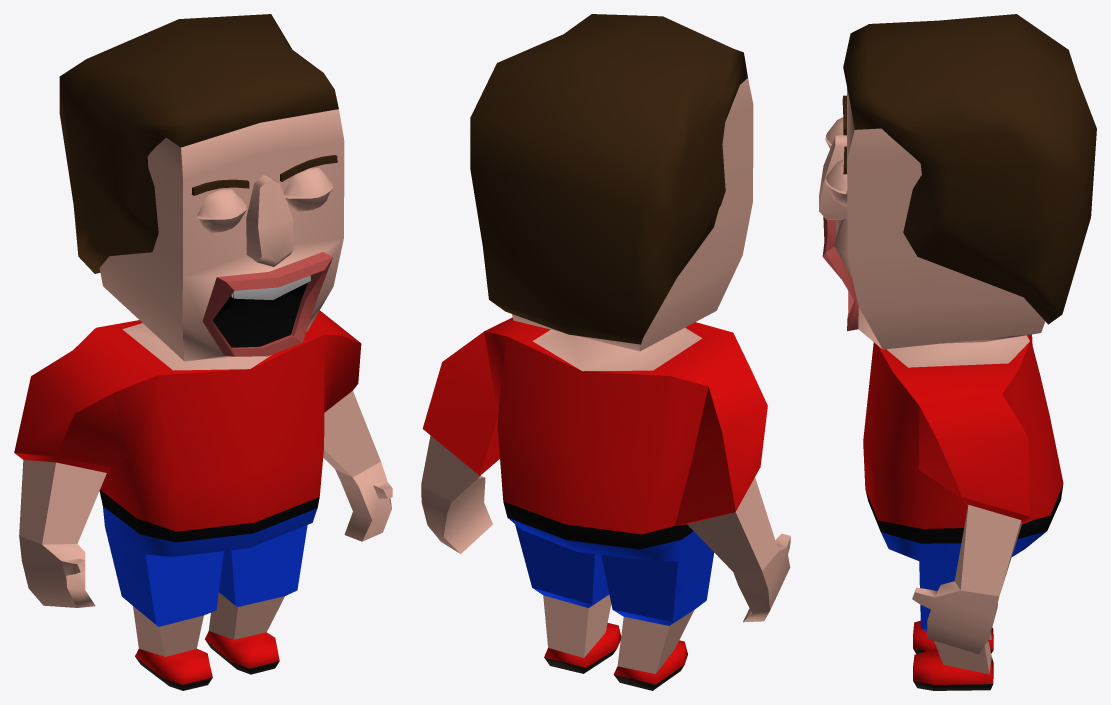
The model's file is eating.fbx.
The picture shows the model from 3 angles, left to right: view 1: azimuth 30°, elevation 25°; view 2: azimuth 150°, elevation 25°; view 3: azimuth 270°, elevation 25°; orthographic projection.
Parts seen in each view (by area): view 1: eating_boy; view 2: eating_boy; view 3: eating_boy.
Part boxes in pixels (bbox=[...]): eating_boy: bbox=[14, 14, 392, 690]; eating_boy: bbox=[421, 14, 790, 690]; eating_boy: bbox=[819, 14, 1096, 690].
Bounding box in the file's own units: 327 × 563 × 226.
